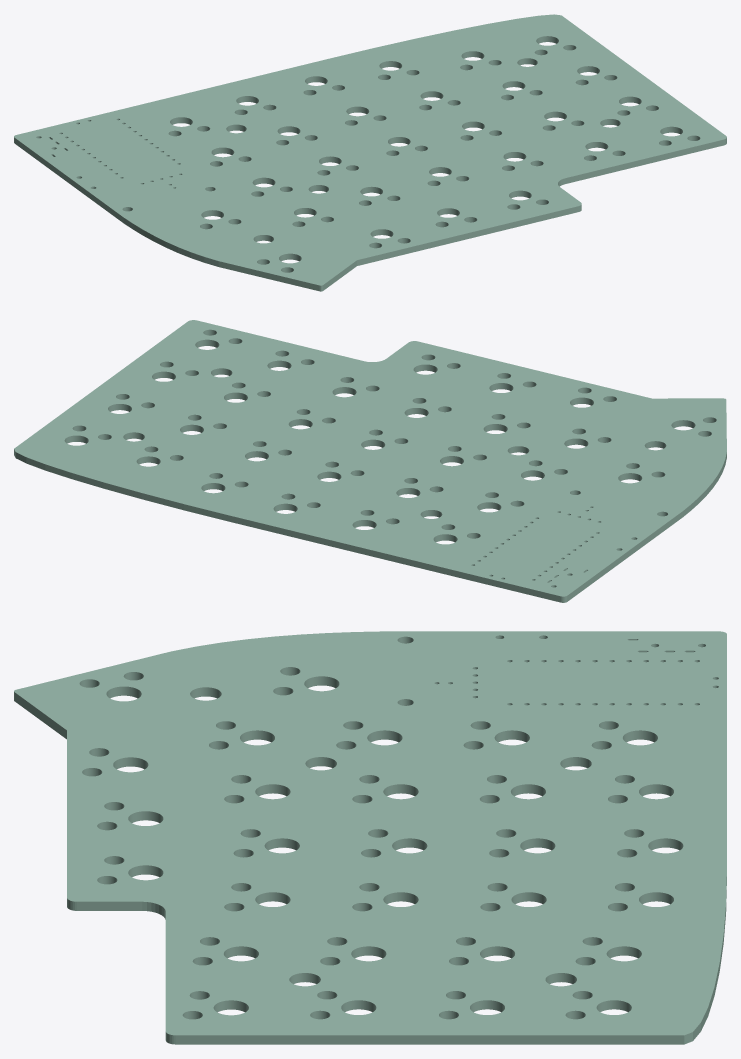
The model's file is right.gltf.
The picture shows the model from 3 angles, top to bottom: view 1: azimuth 30°, elevation 25°; view 2: azimuth 150°, elevation 25°; view 3: azimuth 270°, elevation 25°; orthographic projection. The views are drawn at different scales.
Visible parts, largest first — view 1: Node1; view 2: Node1; view 3: Node1.
Part boxes in pixels (left/top/right/bottom): Node1: left=14, top=14, right=726, bottom=291; Node1: left=14, top=320, right=726, bottom=602; Node1: left=14, top=631, right=726, bottom=1044.
Size of the model in its own units: 143 by 1.51 by 106.
